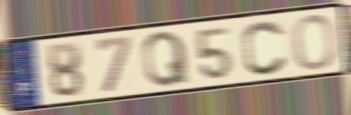5: (193, 24, 236, 80)
7: (94, 33, 135, 95)
8: (45, 41, 87, 100)
C: (241, 18, 290, 77)
O: (291, 13, 338, 72)
Q: (140, 28, 192, 89)
